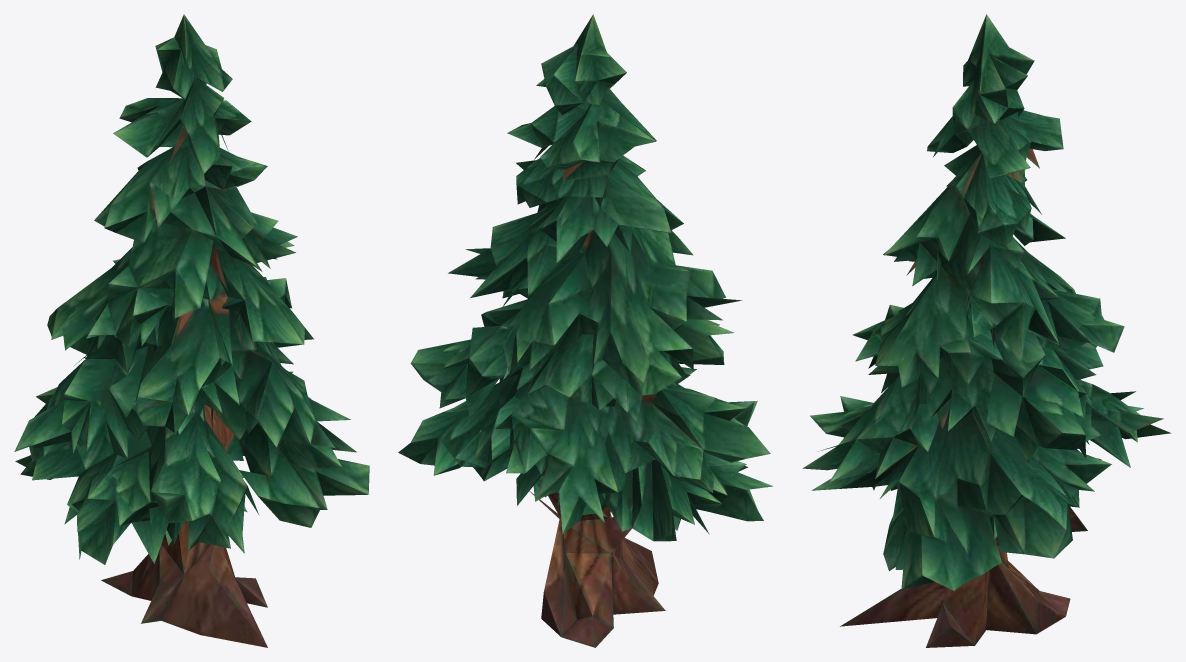
The model's file is pine_tree.glb.
3 renders of one model, left to right at view 1: azimuth 30°, elevation 25°; view 2: azimuth 150°, elevation 25°; view 3: azimuth 270°, elevation 25°, orthographic. The views are drawn at different scales.
Visible parts, largest first — view 1: Mesh_0; view 2: Mesh_0; view 3: Mesh_0.
Part boxes in pixels (box(x1,y1,x2,y2)): Mesh_0: box(14, 14, 369, 647); Mesh_0: box(398, 14, 772, 647); Mesh_0: box(802, 14, 1171, 647).
Size of the model in its own units: 1.12 by 1.88 by 1.04.
Materials: 1 (1 with a texture image).
